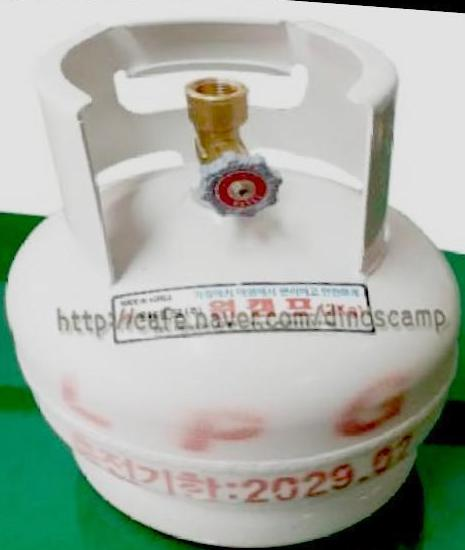cylinder: (1, 1, 465, 550)
